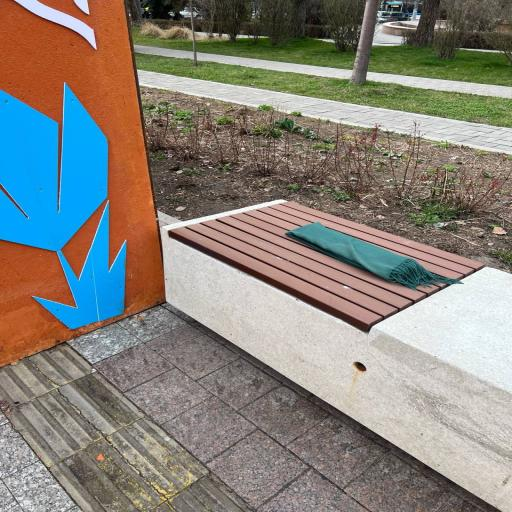bicycle: (385, 0, 415, 15)
shelf: (138, 70, 511, 154), (197, 53, 351, 79)
trash_bin: (162, 201, 511, 511)
